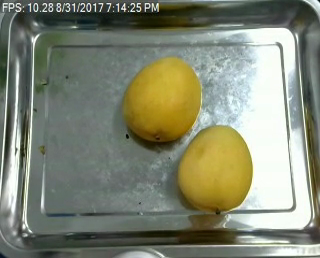Mango: (175, 123, 255, 217), (120, 54, 203, 143)
